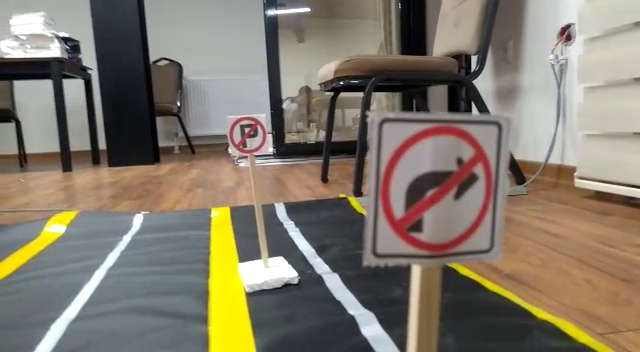park_yapilmaz: (226, 116, 269, 157)
saga_donulmez: (374, 114, 500, 255)
